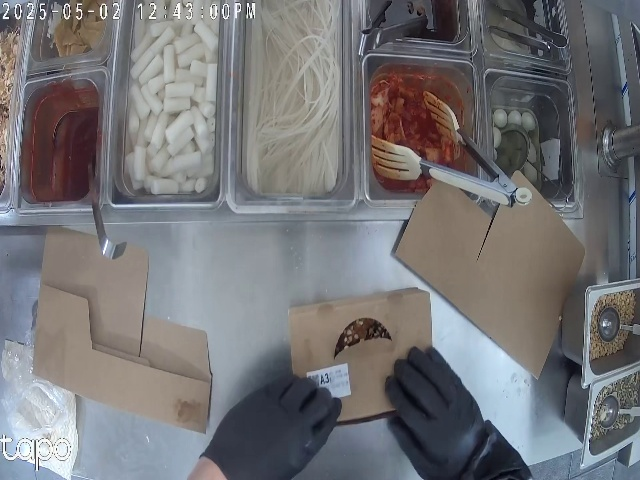closed delivery box: (289, 300, 437, 418)
hand: (200, 380, 338, 466), (392, 351, 486, 462)
